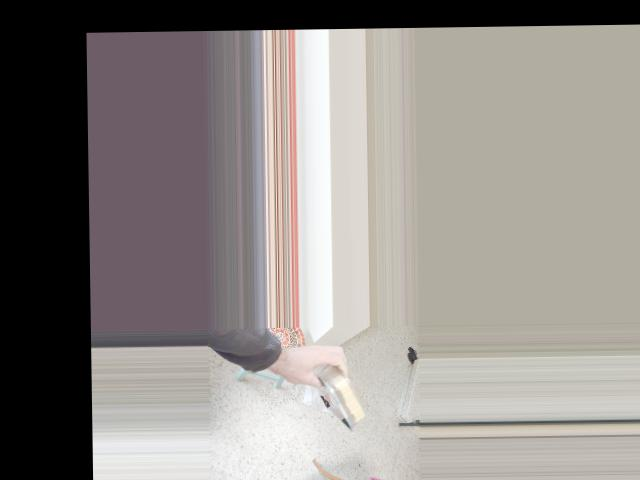cheese: (297, 332, 380, 434)
